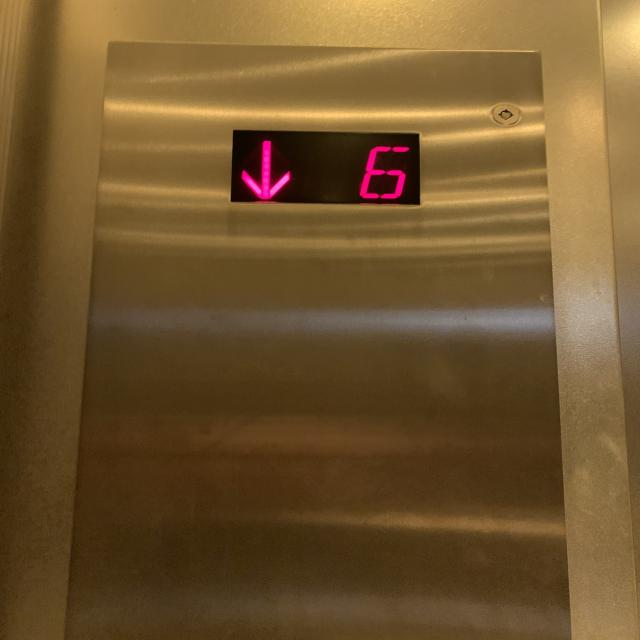box: (211, 126, 436, 211)
